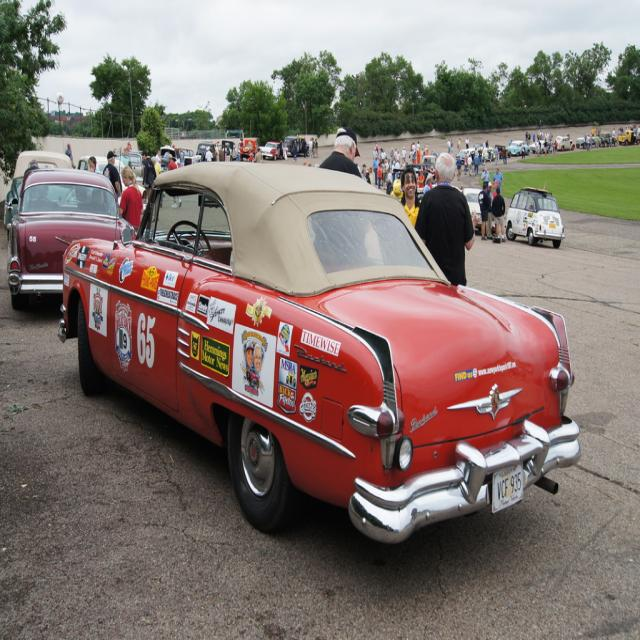car: (59, 166, 583, 544)
